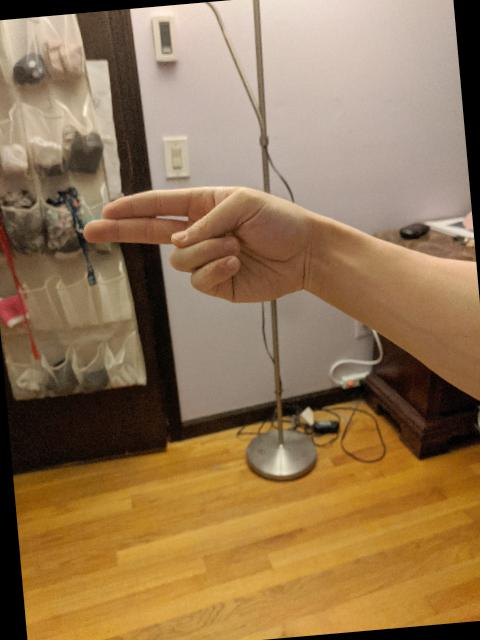H: (76, 173, 326, 327)
